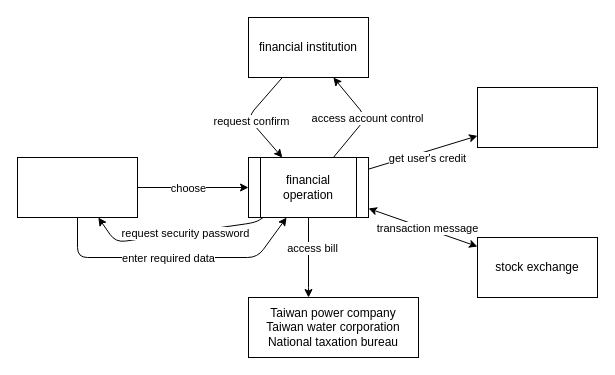
This 615x375 diagram has some shape labels left out. The shapes that lost their labels are listed below. From the top down, each one's box as (x1, y1, x2, y2) in pixels, then its label:
(476, 86, 598, 148): national credit center
(16, 156, 138, 218): user
